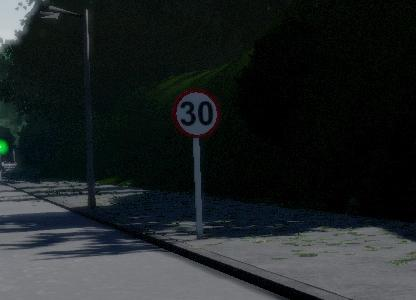Speed_30: (171, 84, 223, 142)
